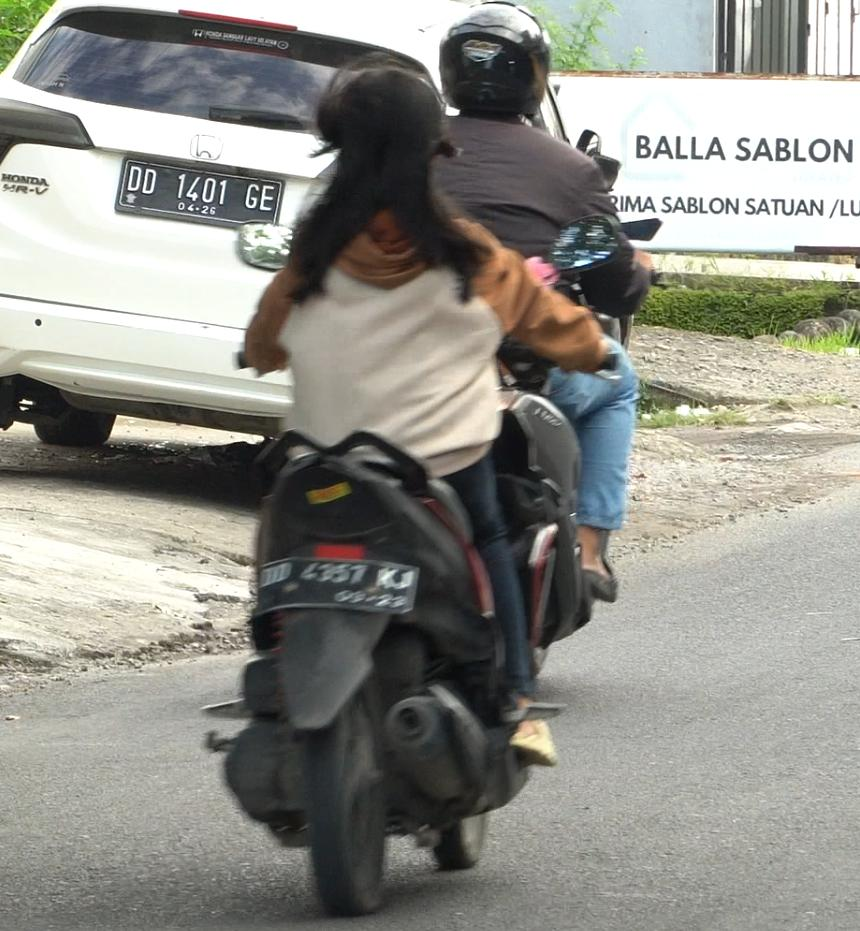number-plate: (238, 556, 430, 616)
